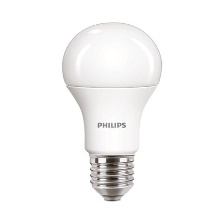light_bulb: (57, 14, 170, 205)
